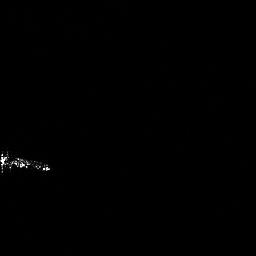ship: (1, 148, 56, 180)
